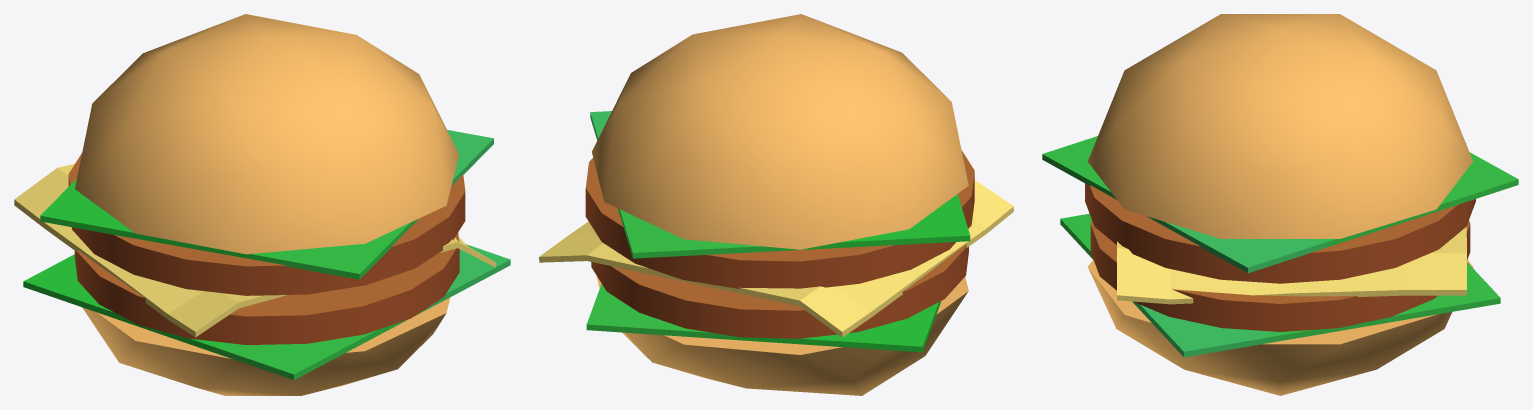
Rendered from hamburger1.fbx.
The picture shows the model from 3 angles, left to right: view 1: azimuth 30°, elevation 25°; view 2: azimuth 150°, elevation 25°; view 3: azimuth 270°, elevation 25°; orthographic projection.
Visible parts, largest first — view 1: Cylinder; view 2: Cylinder; view 3: Cylinder.
Boxes of the visible parts, left/top/right/bottom form: Cylinder: left=14, top=14, right=510, bottom=395; Cylinder: left=539, top=14, right=1013, bottom=395; Cylinder: left=1042, top=14, right=1518, bottom=395.
Bounding box in the file's own units: 45.44 × 34.28 × 45.44.
